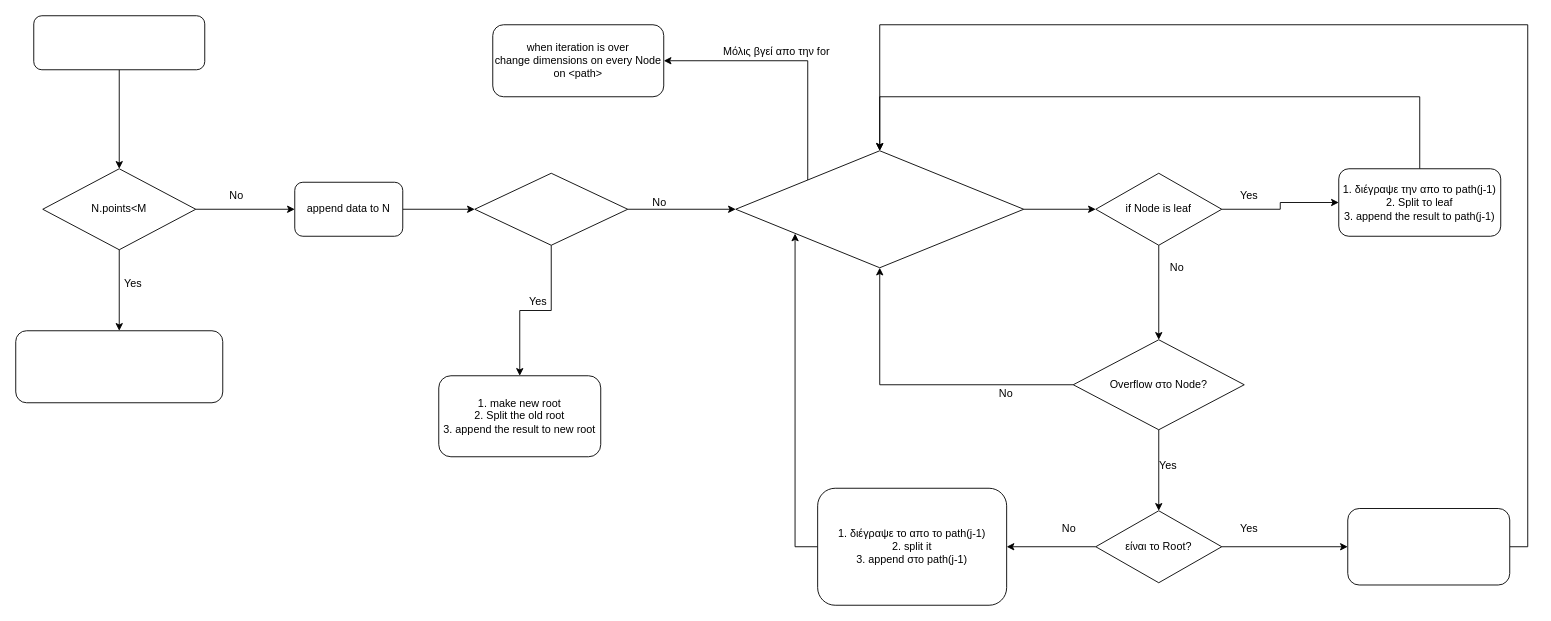
Image size: 1551x621. Some labels were removed from this diagram. Here are the shapes that lost their labels. From the top down, the centre of each, then its label:
At (x=119, y=42): "N <-- ChooseSubtree <path> nodes we visited".
At (x=551, y=208): "if path.size ==1".
At (x=879, y=209): "j=path.size-1; j>=0 ; j -- για κάθε Node στο <path> σε reverse traversal".
At (x=119, y=366): "1. append data to N 2. change dimensions on every Node on the <path>".
At (x=1428, y=546): "1. make new root 2. split στο old rood 3. append the result to new root".
